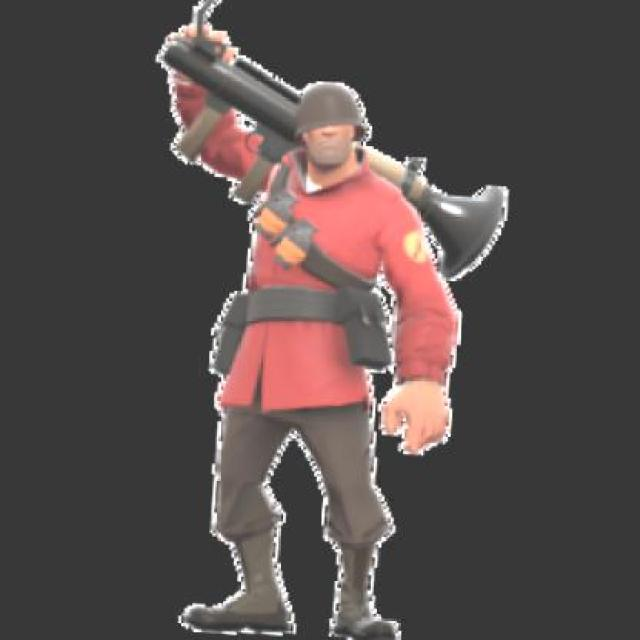MIL_Pax: (126, 16, 480, 638)
